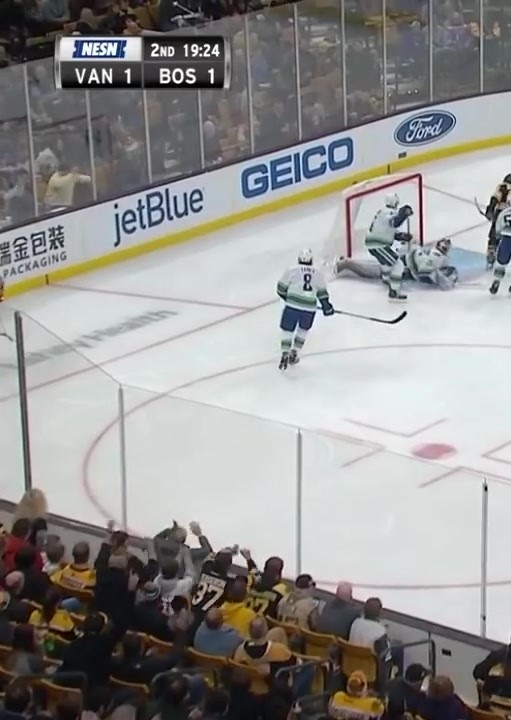Geico: (236, 140, 366, 209)
